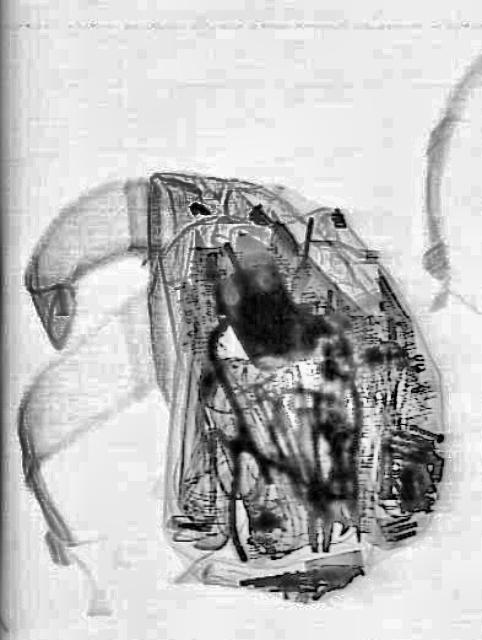Pliers: (188, 392, 322, 562), (292, 425, 344, 553)
